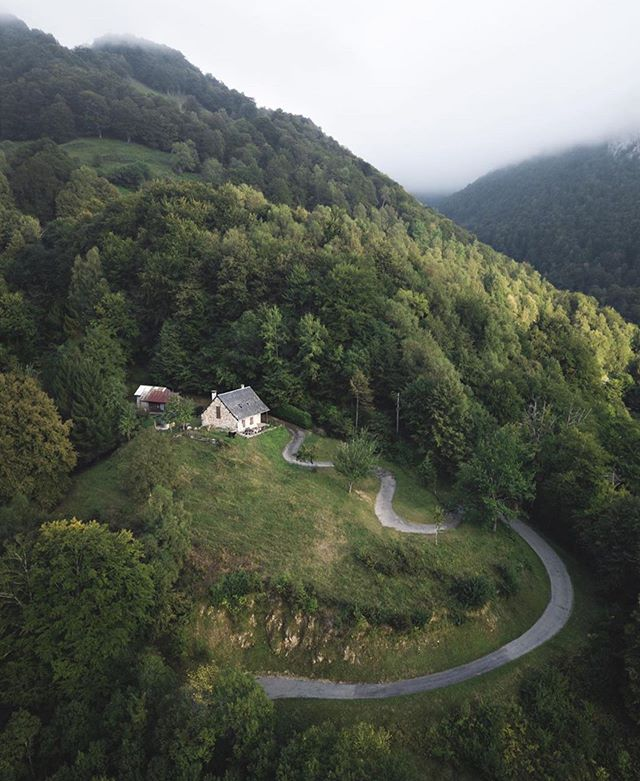building: (141, 375, 263, 461)
grass: (114, 434, 551, 713)
sky: (211, 1, 640, 184)
vegetation: (11, 49, 640, 781)
